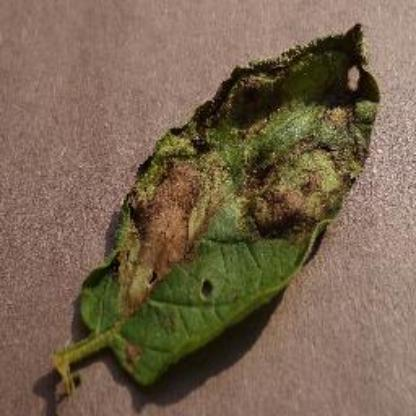Late-Blight: (43, 20, 381, 396)
